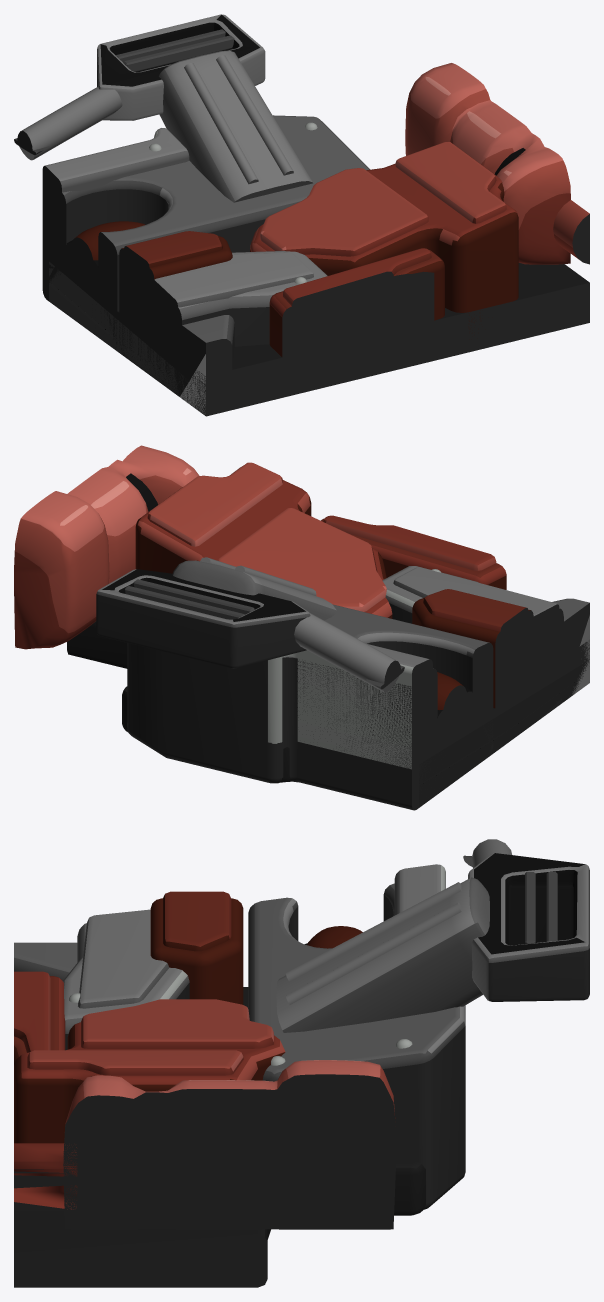
File: core_machine_tcl.glb
3 renders of one model, top to bottom at view 1: azimuth 30°, elevation 25°; view 2: azimuth 150°, elevation 25°; view 3: azimuth 270°, elevation 25°, orthographic. The views are drawn at different scales.
Visible parts, largest first — view 1: chassis.001, housing.001, core.001, chest.001, stack.001, lower_plate.001, chest_panel0.001, deck.001, cap.001, brow.001, deck_panel.001, chest_panel1.001 (+11 smaller); view 2: housing.001, core.001, brow.001, cap.001, chassis.001, chest_panel0.001, chest.001, chest_panel1.001, strip.001, pipe.001, lower_panel.001, stack.001 (+9 smaller); view 3: core.001, housing.001, chassis.001, stack.001, cap.001, chest_panel0.001, chest.001, deck_panel.001, chest_panel1.001, strip.001, core_socket.001, strip_panel.001 (+12 smaller).
Part boxes in pixels (x1=…): chassis.001: x1=45, y1=261, x2=589, y2=416; housing.001: x1=42, y1=115, x2=369, y2=347; core.001: x1=405, y1=63, x2=570, y2=264; chest.001: x1=250, y1=147, x2=518, y2=329; stack.001: x1=159, y1=50, x2=312, y2=202; lower_plate.001: x1=269, y1=249, x2=444, y2=379; chest_panel0.001: x1=260, y1=168, x2=428, y2=256; deck.001: x1=139, y1=251, x2=327, y2=394; cap.001: x1=97, y1=14, x2=265, y2=120; brow.001: x1=42, y1=128, x2=189, y2=274; deck_panel.001: x1=147, y1=252, x2=313, y2=312; chest_panel1.001: x1=395, y1=142, x2=506, y2=223; housing.001: x1=127, y1=604, x2=493, y2=810; core.001: x1=14, y1=445, x2=199, y2=649; brow.001: x1=267, y1=644, x2=432, y2=773; cap.001: x1=96, y1=569, x2=310, y2=668; chassis.001: x1=67, y1=621, x2=589, y2=807; chest_panel0.001: x1=218, y1=508, x2=386, y2=611; chest.001: x1=135, y1=466, x2=392, y2=618; chest_panel1.001: x1=147, y1=462, x2=282, y2=546; strip.001: x1=412, y1=597, x2=533, y2=749; pipe.001: x1=294, y1=612, x2=400, y2=692; lower_panel.001: x1=323, y1=515, x2=496, y2=570; stack.001: x1=172, y1=560, x2=337, y2=620; core.001: x1=63, y1=1060, x2=396, y2=1229; housing.001: x1=248, y1=883, x2=465, y2=1209; chassis.001: x1=14, y1=987, x2=425, y2=1287; stack.001: x1=276, y1=877, x2=489, y2=1032; cap.001: x1=468, y1=853, x2=589, y2=1001; chest_panel0.001: x1=81, y1=999, x2=273, y2=1048; chest.001: x1=14, y1=1022, x2=285, y2=1143; deck_panel.001: x1=78, y1=909, x2=169, y2=1008; chest_panel1.001: x1=27, y1=1050, x2=243, y2=1075; strip.001: x1=150, y1=898, x2=243, y2=1004; core_socket.001: x1=128, y1=1099, x2=174, y2=1227; strip_panel.001: x1=163, y1=891, x2=231, y2=951.
Bounding box in the file's own units: 24 × 11.56 × 23.6.
